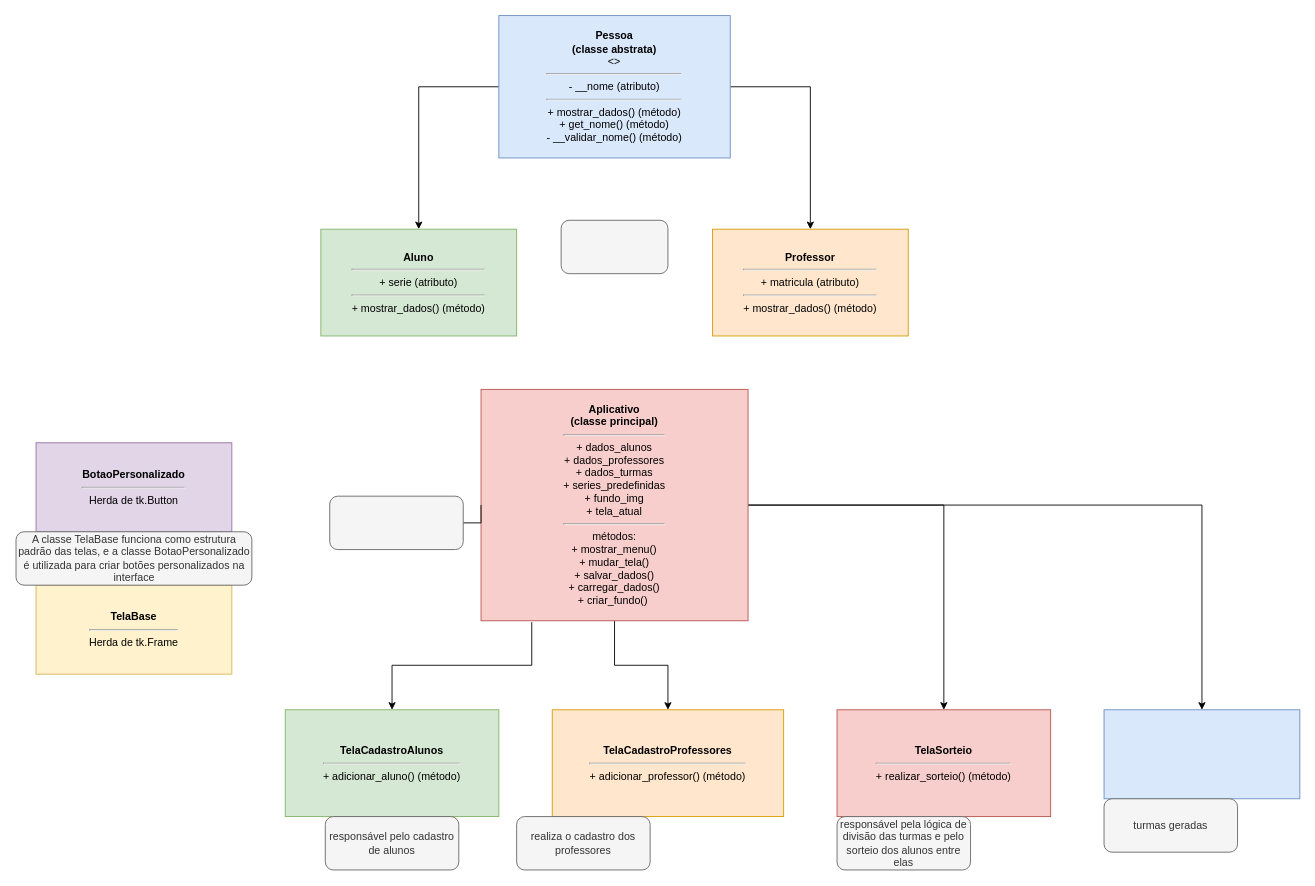
This 1315x886 diagram has some shape labels left out. The shapes that lost their labels are listed below. From the top down, each one's centre as x and y in pixels, then its label:
(614,246): classes filhas através da herança
(396,522): controla toda a execução da aplicação e o gerenciamento das telas
(1201,754): TelaTurmas
